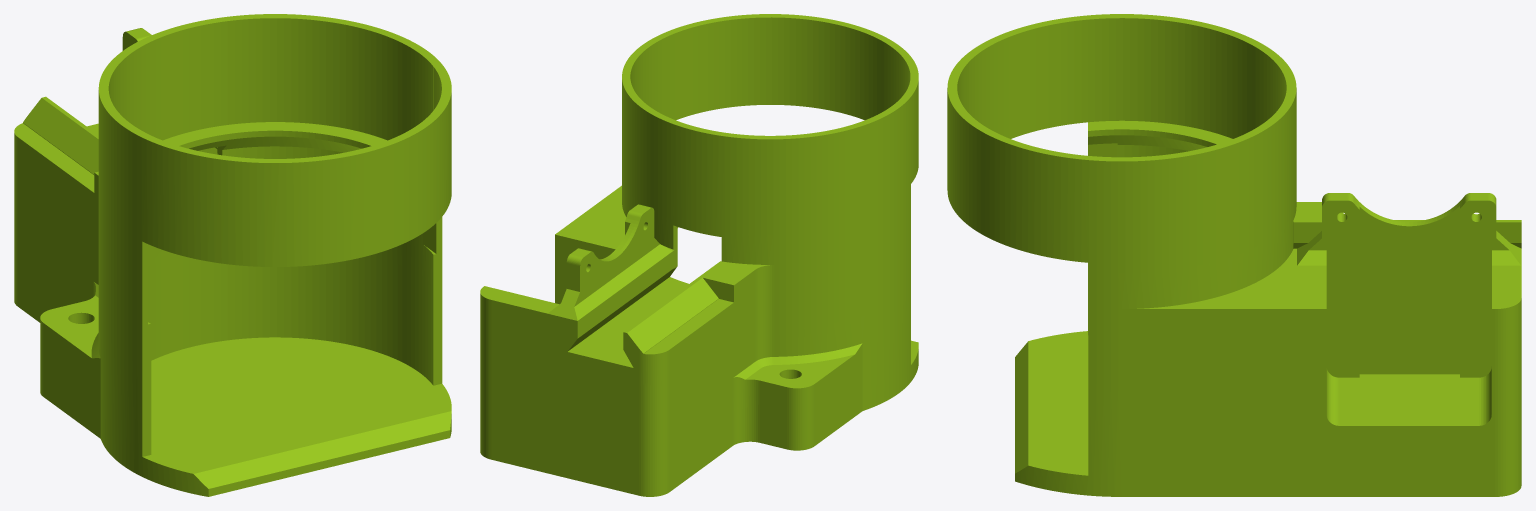
The model's file is dispenser-specific__v0.glb.
3 views of the same model, side by side, from view 1: azimuth 30°, elevation 25°; view 2: azimuth 150°, elevation 25°; view 3: azimuth 270°, elevation 25° (orthographic). The views are drawn at different scales.
Visible parts, largest first — view 1: dispenser-specific; view 2: dispenser-specific; view 3: dispenser-specific.
Part boxes in pixels (x1=…): dispenser-specific: x1=14, y1=14, x2=451, y2=496; dispenser-specific: x1=480, y1=14, x2=918, y2=496; dispenser-specific: x1=947, y1=14, x2=1521, y2=496.
Size of the model in its own units: 0.0532 by 0.0564 by 0.0875.
